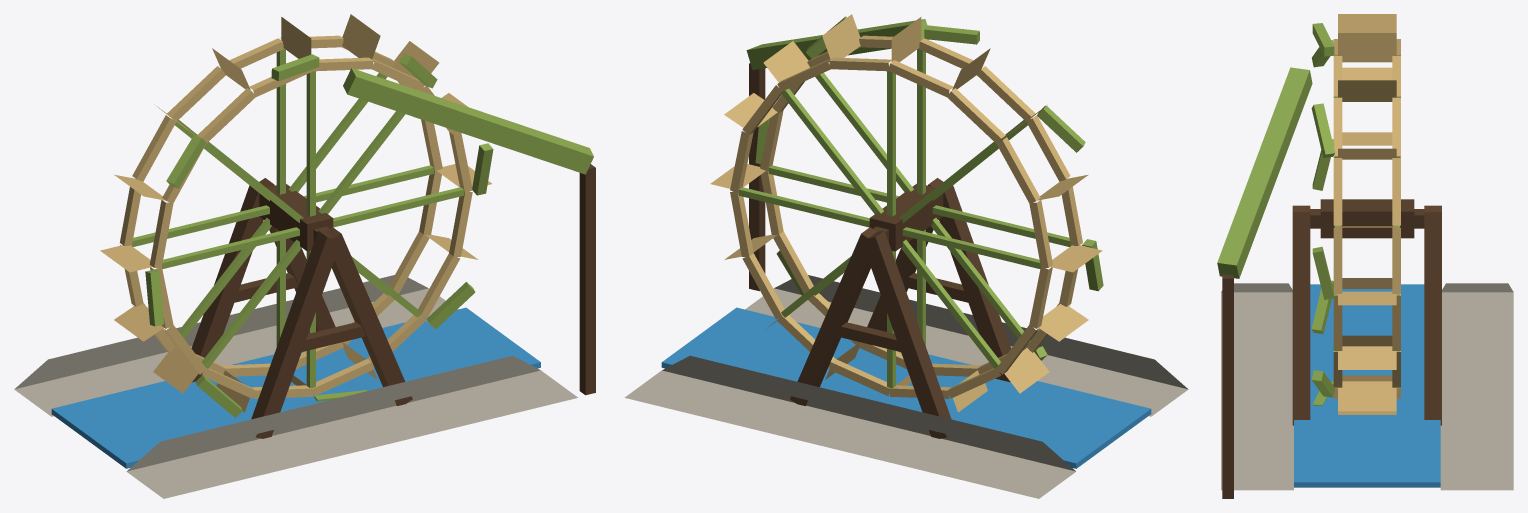
File: viet_water_wheel.glb
3 renders of one model, left to right at view 1: azimuth 30°, elevation 25°; view 2: azimuth 150°, elevation 25°; view 3: azimuth 270°, elevation 25°, orthographic. The views are drawn at different scales.
Visible parts, largest first — view 1: viet_water_wheel; view 2: viet_water_wheel; view 3: viet_water_wheel.
Boxes of the visible parts, x1,y1,x2,y2 form: viet_water_wheel: (14, 14, 595, 498); viet_water_wheel: (624, 14, 1188, 498); viet_water_wheel: (1217, 14, 1513, 498).
Size of the model in its own units: 1 by 0.836 by 0.6048.
